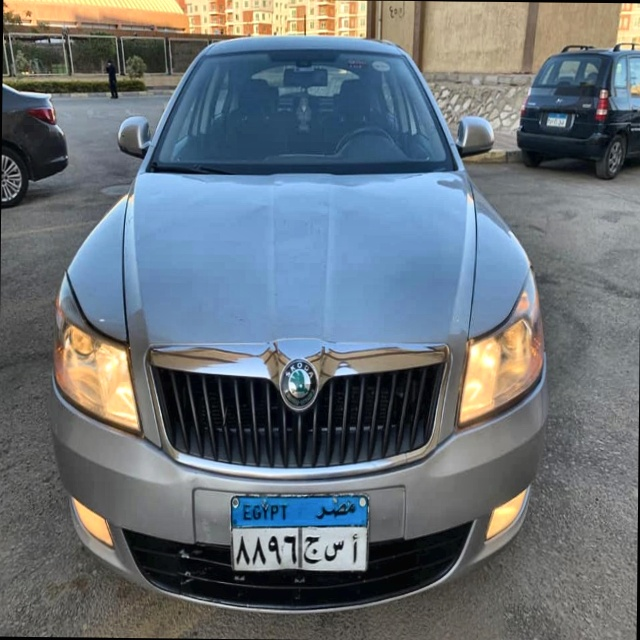License Plate: (228, 491, 373, 577)
